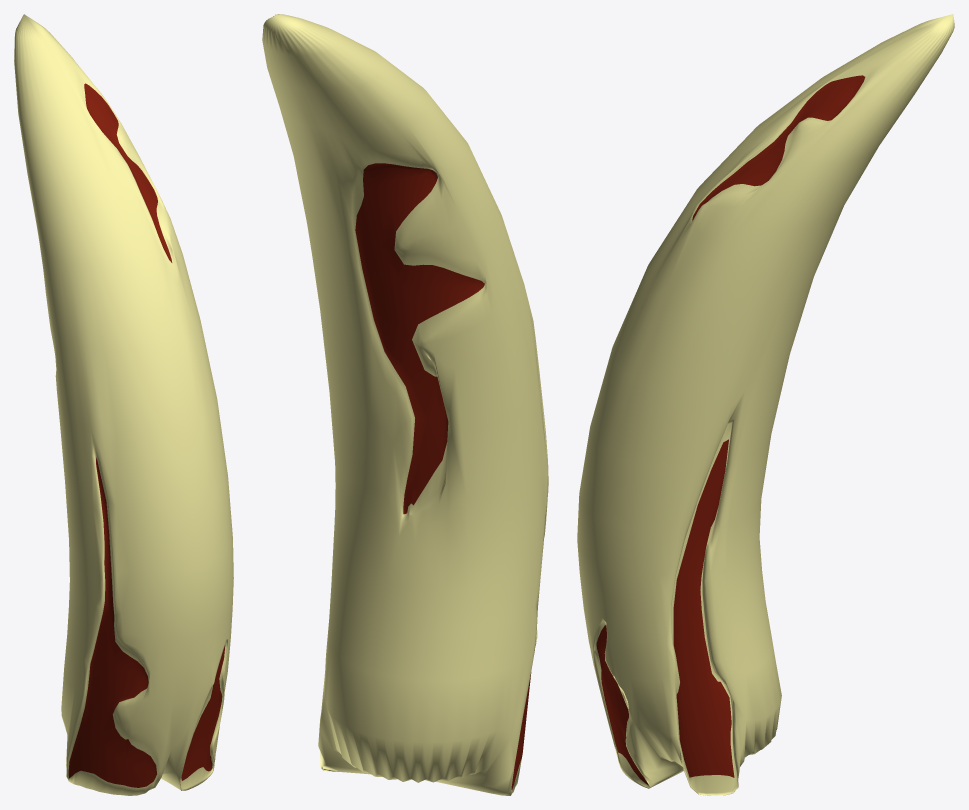
File: teeth.fbx
3 views of the same model, side by side, from view 1: azimuth 30°, elevation 25°; view 2: azimuth 150°, elevation 25°; view 3: azimuth 270°, elevation 25° (orthographic). The views are drawn at different scales.
Visible parts, largest first — view 1: Cylinder; view 2: Cylinder; view 3: Cylinder.
Part boxes in pixels (bbox=[...]): Cylinder: bbox=[14, 14, 233, 795]; Cylinder: bbox=[262, 14, 548, 795]; Cylinder: bbox=[577, 14, 954, 795].
Size of the model in its own units: 199 by 896 by 411.
Materials: 1 (1 with a texture image).
